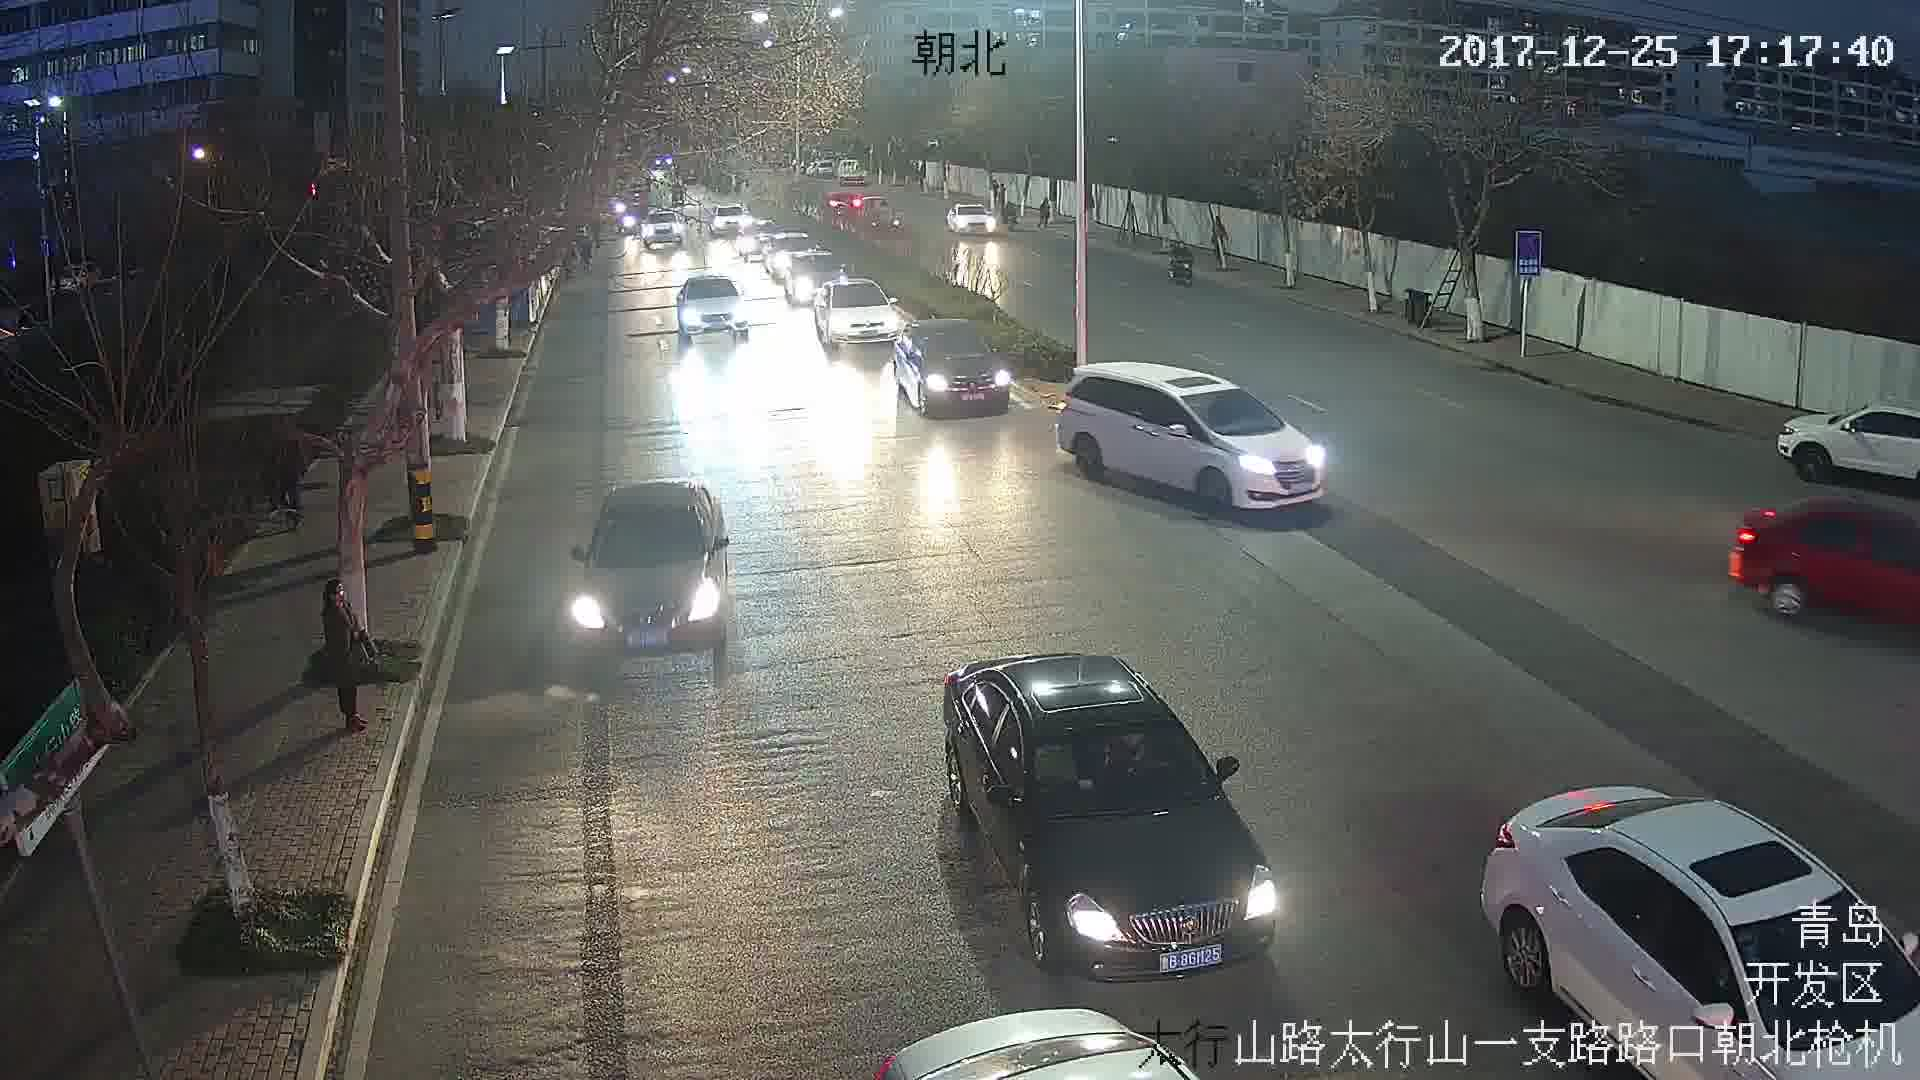car: (938, 653, 1284, 971), (1056, 364, 1337, 524), (574, 485, 731, 659), (885, 314, 1014, 414), (670, 274, 760, 344), (813, 281, 912, 338), (946, 203, 999, 237)
person: (317, 585, 374, 723)
